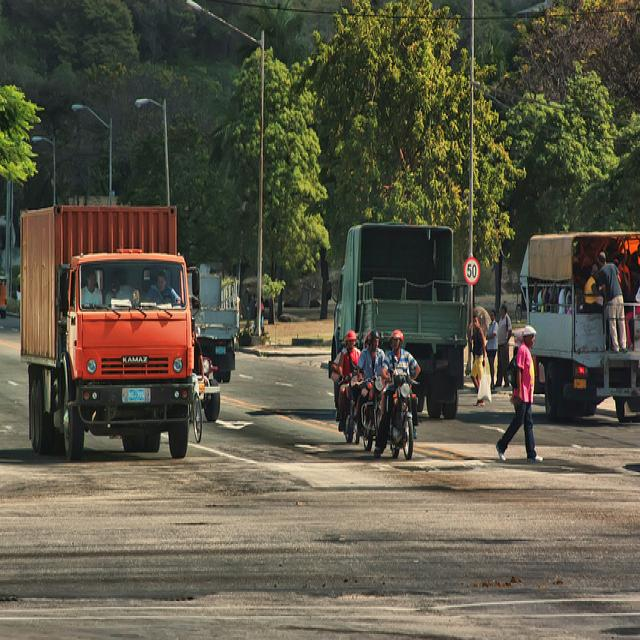motor: (385, 368, 423, 461), (360, 376, 393, 451), (341, 374, 367, 444)
